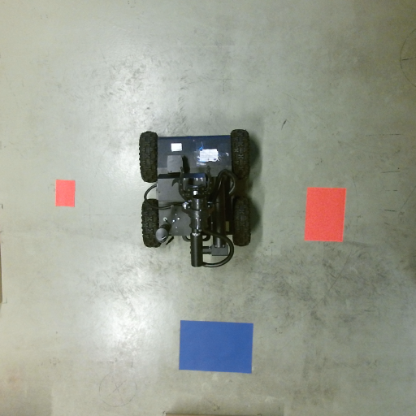Blue: (175, 318, 256, 375)
Jaguar: (137, 129, 253, 274)
Red: (305, 187, 344, 243), (55, 179, 76, 207)
